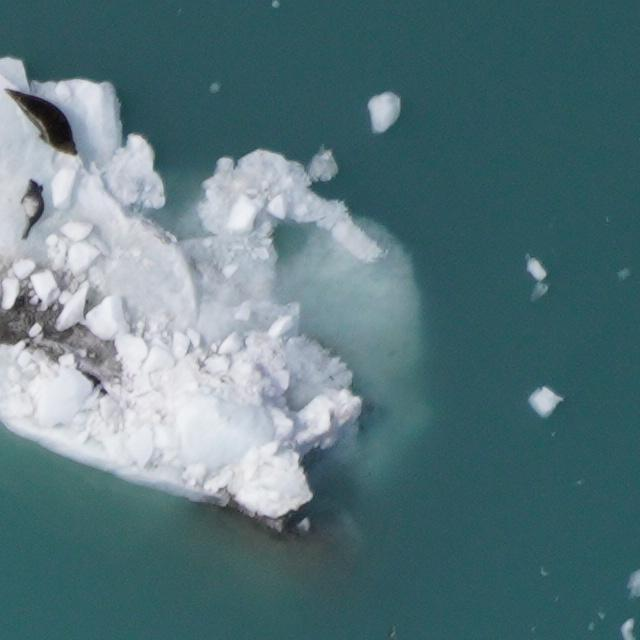seal: (1, 68, 90, 166), (20, 179, 44, 239)
